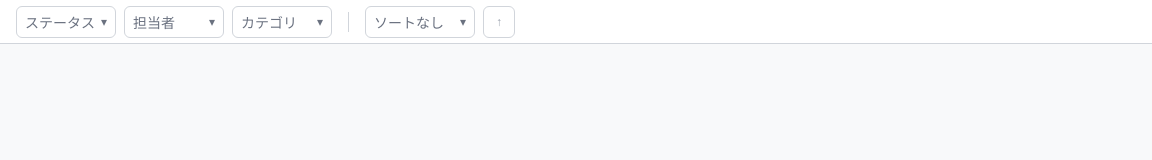
Test case: FilterBar › dropdown options › extracts status options from board data
What coordinates should you click on to do the following:
click the button with aria-label "ステータスフィルタ"
I would click on:
 (66, 22)
Its box is [16,6,116,38].
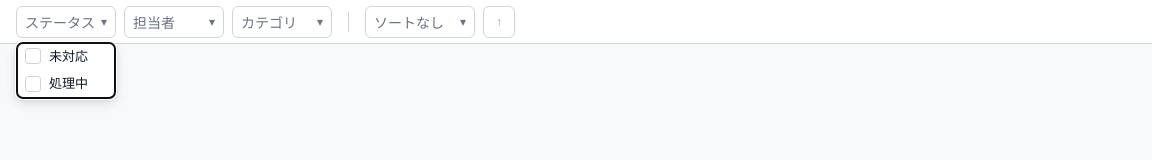
Result: the text "未対応" is shown at [49,46,88,66]
Result: the text "処理中" is shown at [49,74,88,94]
